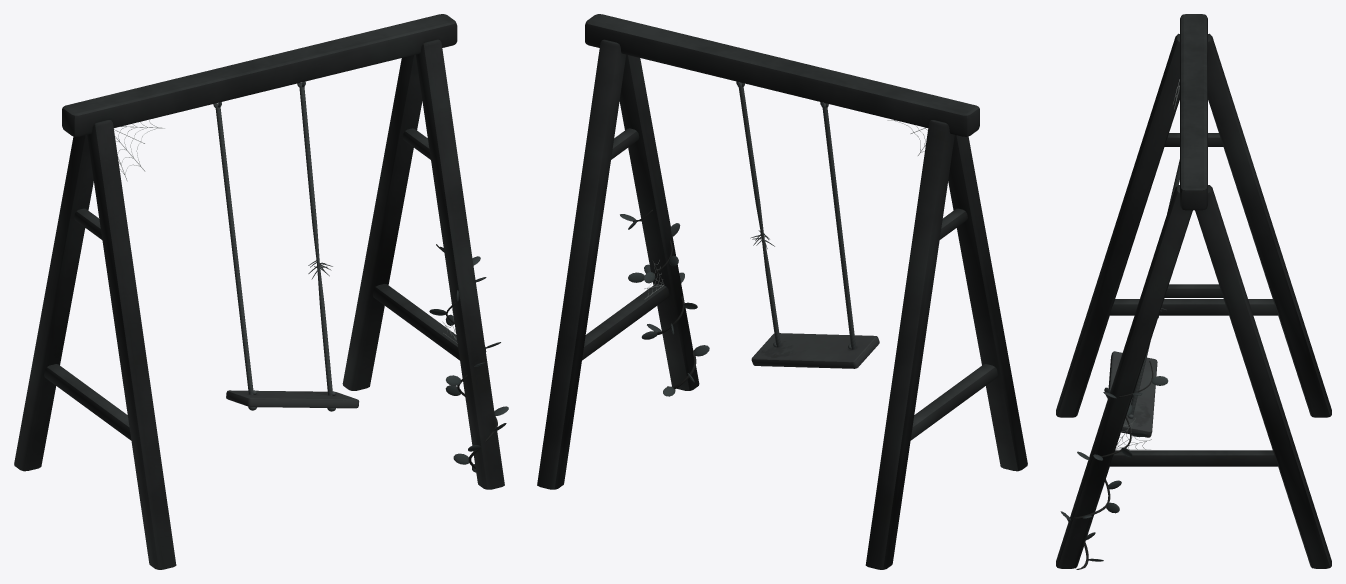
File: creepy-swing.glb
3 renders of one model, left to right at view 1: azimuth 30°, elevation 25°; view 2: azimuth 150°, elevation 25°; view 3: azimuth 270°, elevation 25°, orthographic. The views are drawn at different scales.
Visible parts, largest first — view 1: creepy-swing_body, creepy-swing_seat; view 2: creepy-swing_body, creepy-swing_seat; view 3: creepy-swing_body, creepy-swing_seat.
Part boxes in pixels (bbox=[...]): creepy-swing_body: bbox=[14, 14, 508, 569]; creepy-swing_seat: bbox=[213, 81, 359, 411]; creepy-swing_body: bbox=[537, 14, 1027, 569]; creepy-swing_seat: bbox=[736, 81, 879, 368]; creepy-swing_body: bbox=[1056, 14, 1331, 569]; creepy-swing_seat: bbox=[1108, 159, 1179, 437].
Bounding box in the file's own units: 2.16 × 2.2 × 1.42.
3 materials, 2 textured.
